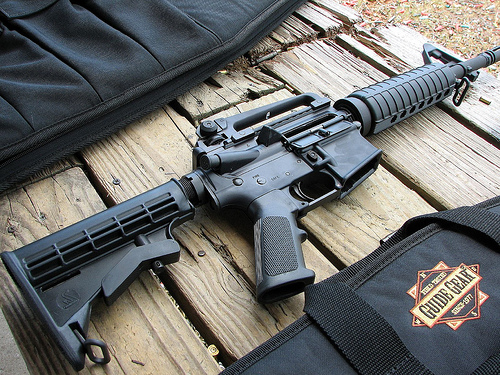rifle: (6, 44, 495, 361)
